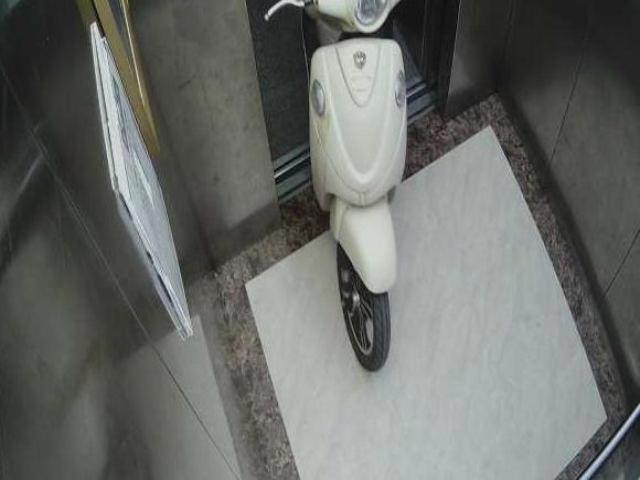emotor: (274, 2, 433, 380)
